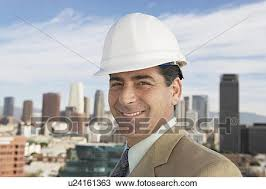Person_wearing_helmet: (86, 6, 189, 94)
